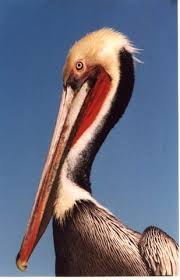pelican: (15, 28, 180, 274)
